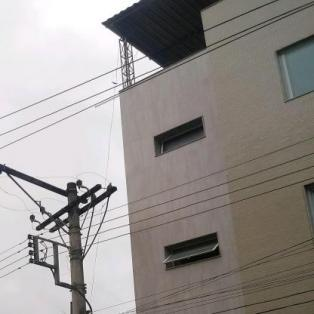Poste: (61, 175, 113, 314)
